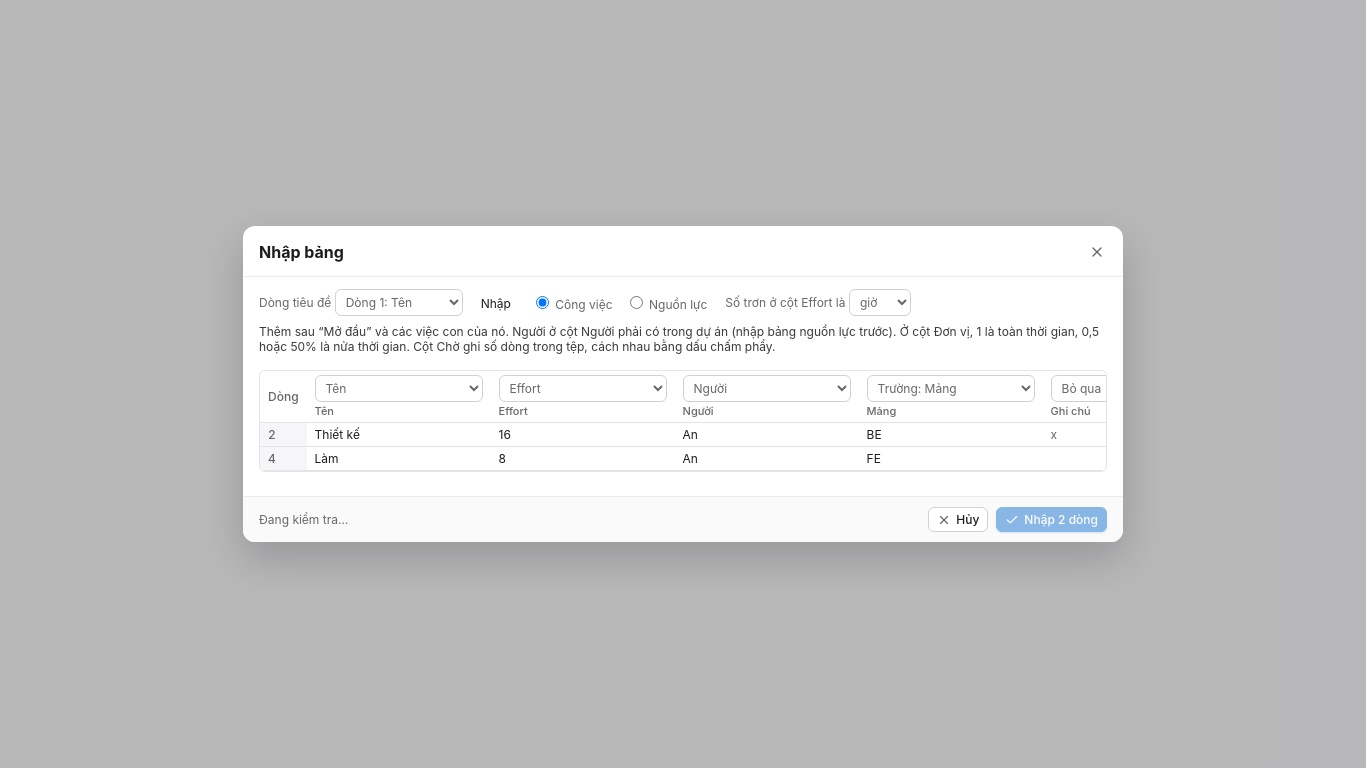
Test: ImportDialog › shows what the engine refuses at the file line
The image size is (1366, 768).
Note: Any change asks again.
Click the radio button labelled "Nguồn lực": (636, 302) [630,296,643,309]
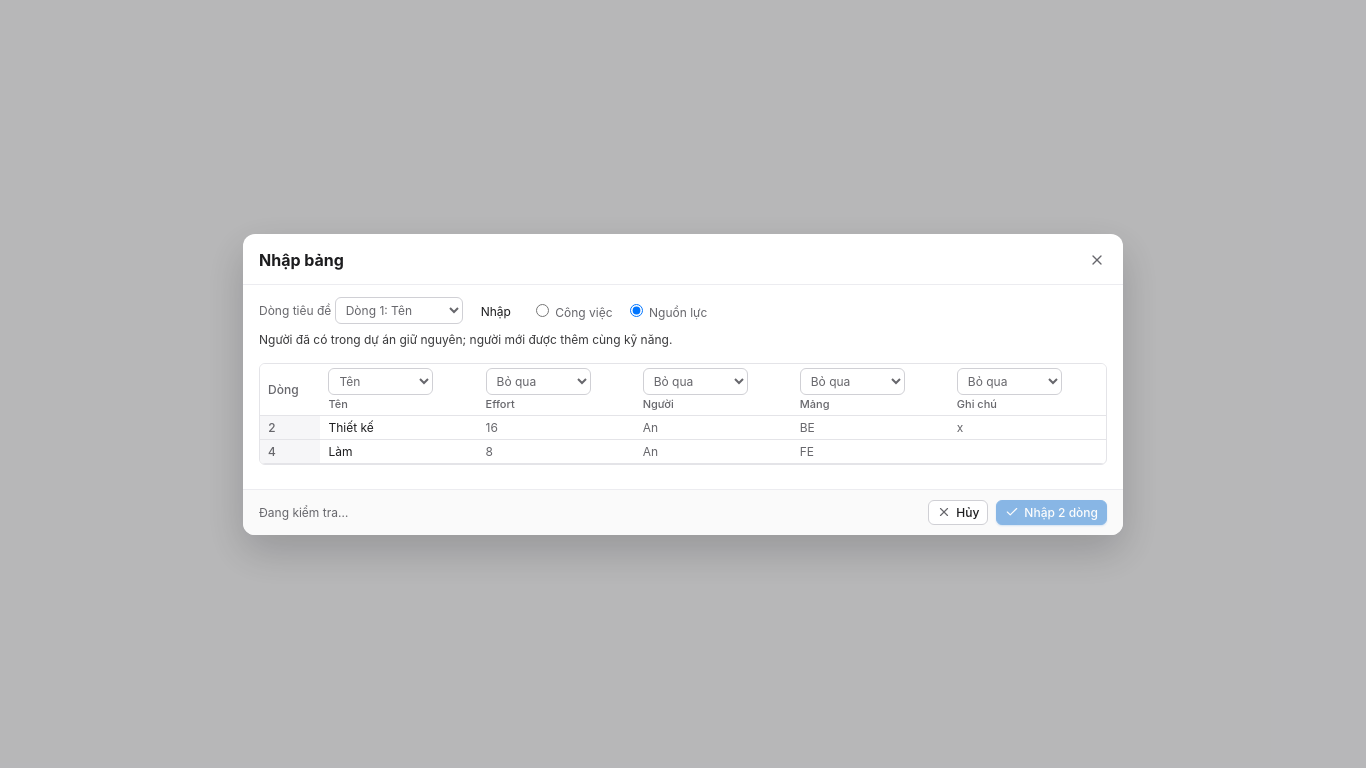
Click the radio button labelled "Công việc": (542, 310) [536,304,549,316]
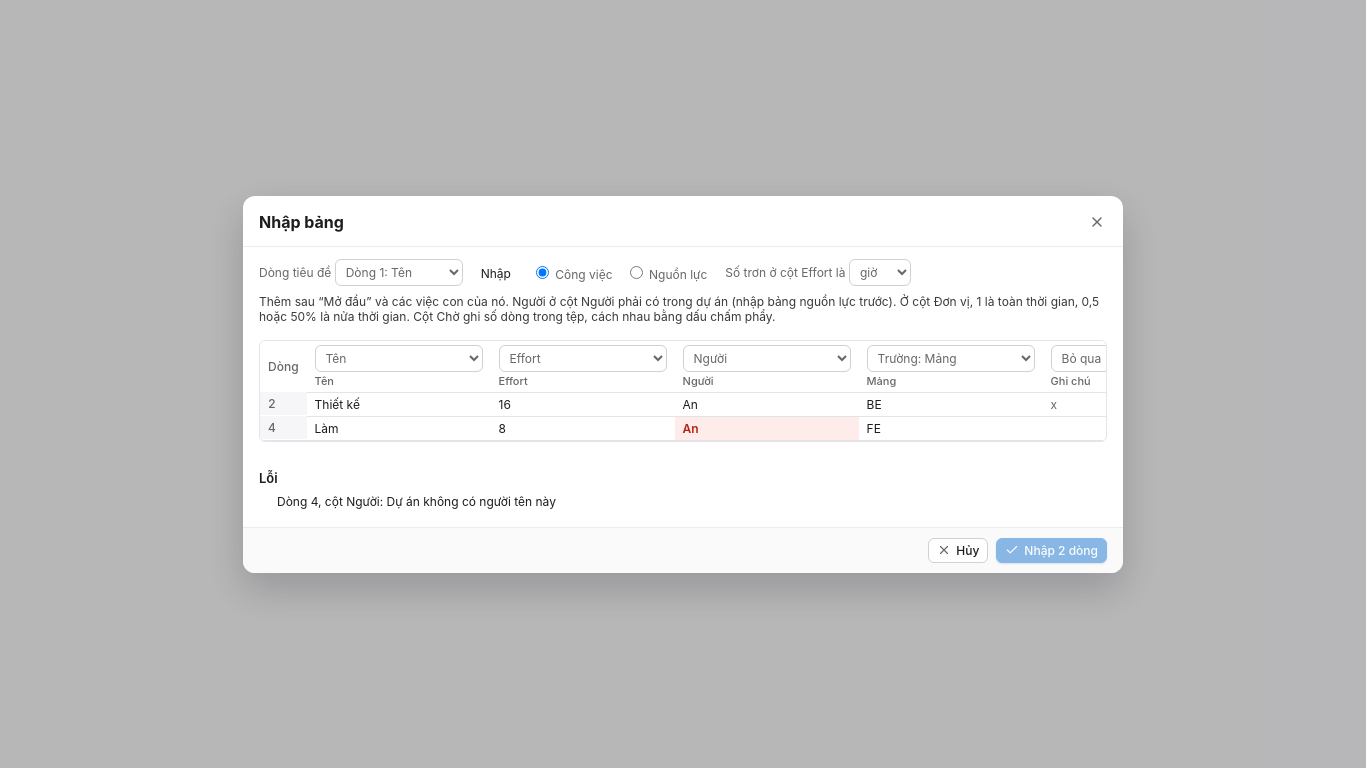
Expected: the button "Nhập 2 dòng" is disabled, [996,538,1107,562]
Result: the list named "Lỗi" reads "Dòng 4, cột Người: Dự án không có người tên này" at [277,494,556,508]
